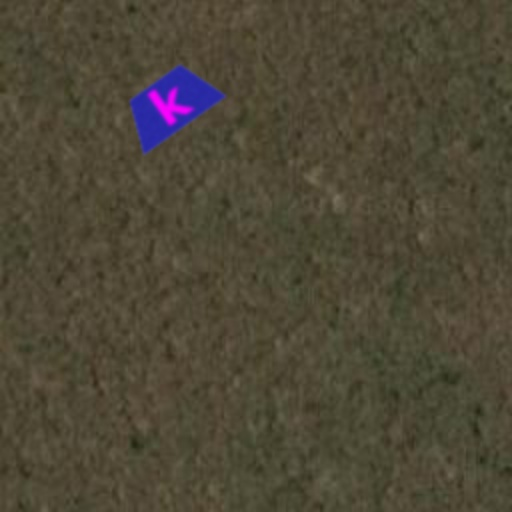trapezoid: (98, 32, 242, 176)
